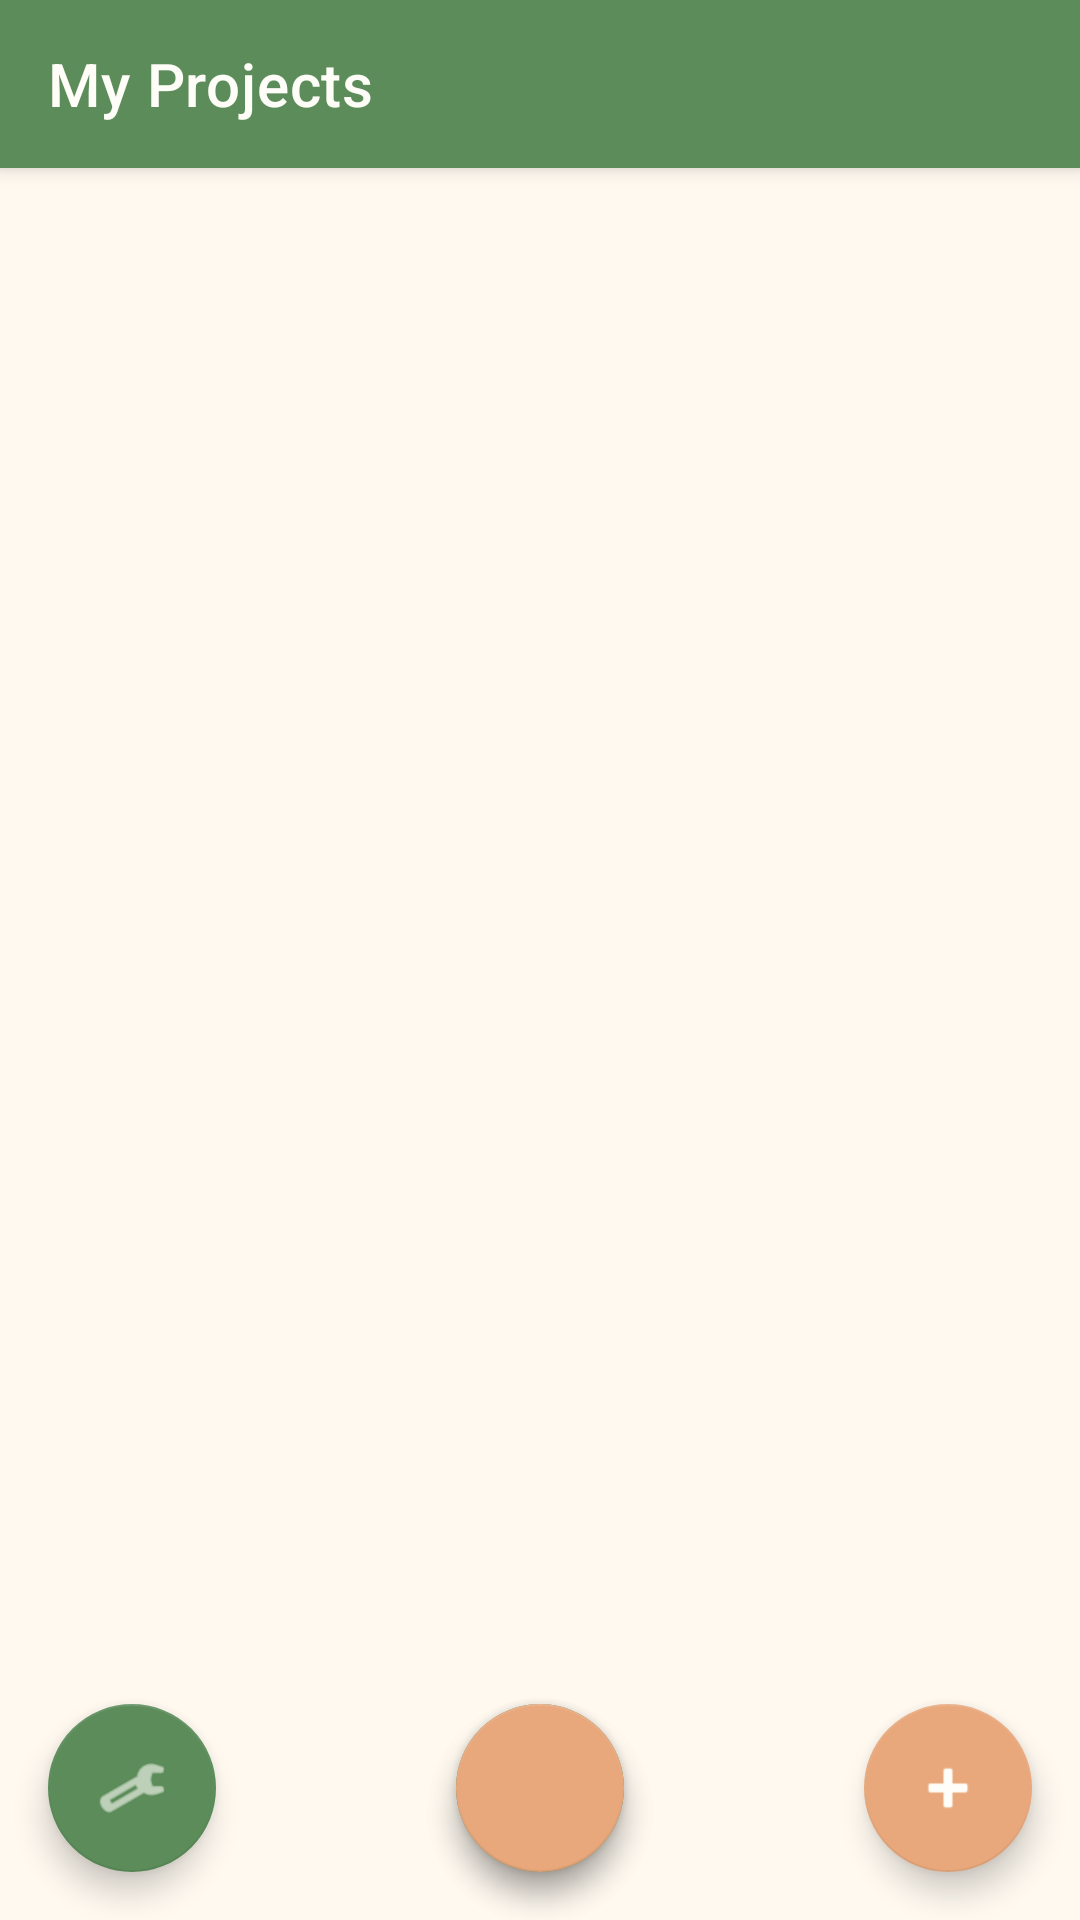

Where icons sit on this 1080*1920 app screen, as (x1, y1, x2, y2):
add: (864, 1704, 1032, 1872)
preferences: (48, 1704, 216, 1872)
